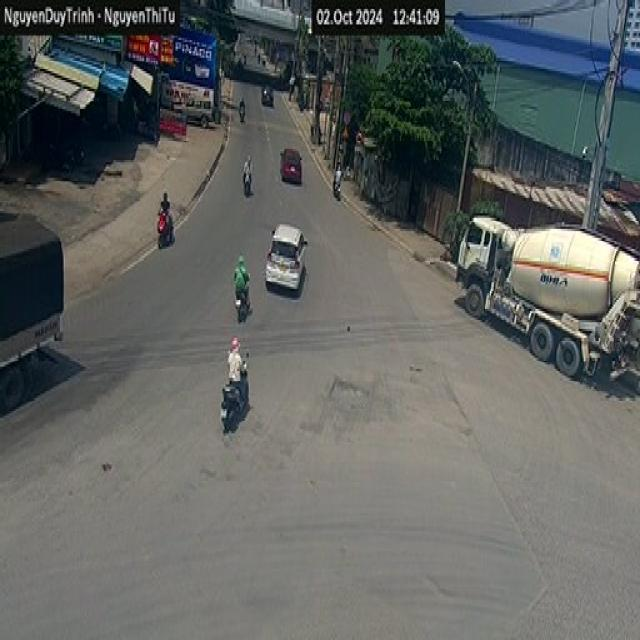car: (265, 222, 307, 291), (279, 146, 301, 184), (261, 84, 274, 104)
motorcycle: (220, 349, 249, 431), (147, 202, 179, 245), (235, 282, 251, 322), (242, 164, 258, 202), (334, 182, 347, 203), (233, 112, 246, 120)
person: (232, 253, 252, 316), (156, 191, 174, 245), (242, 154, 252, 196), (333, 162, 342, 198), (237, 96, 245, 122)
truck: (453, 209, 638, 382), (2, 206, 82, 379)
